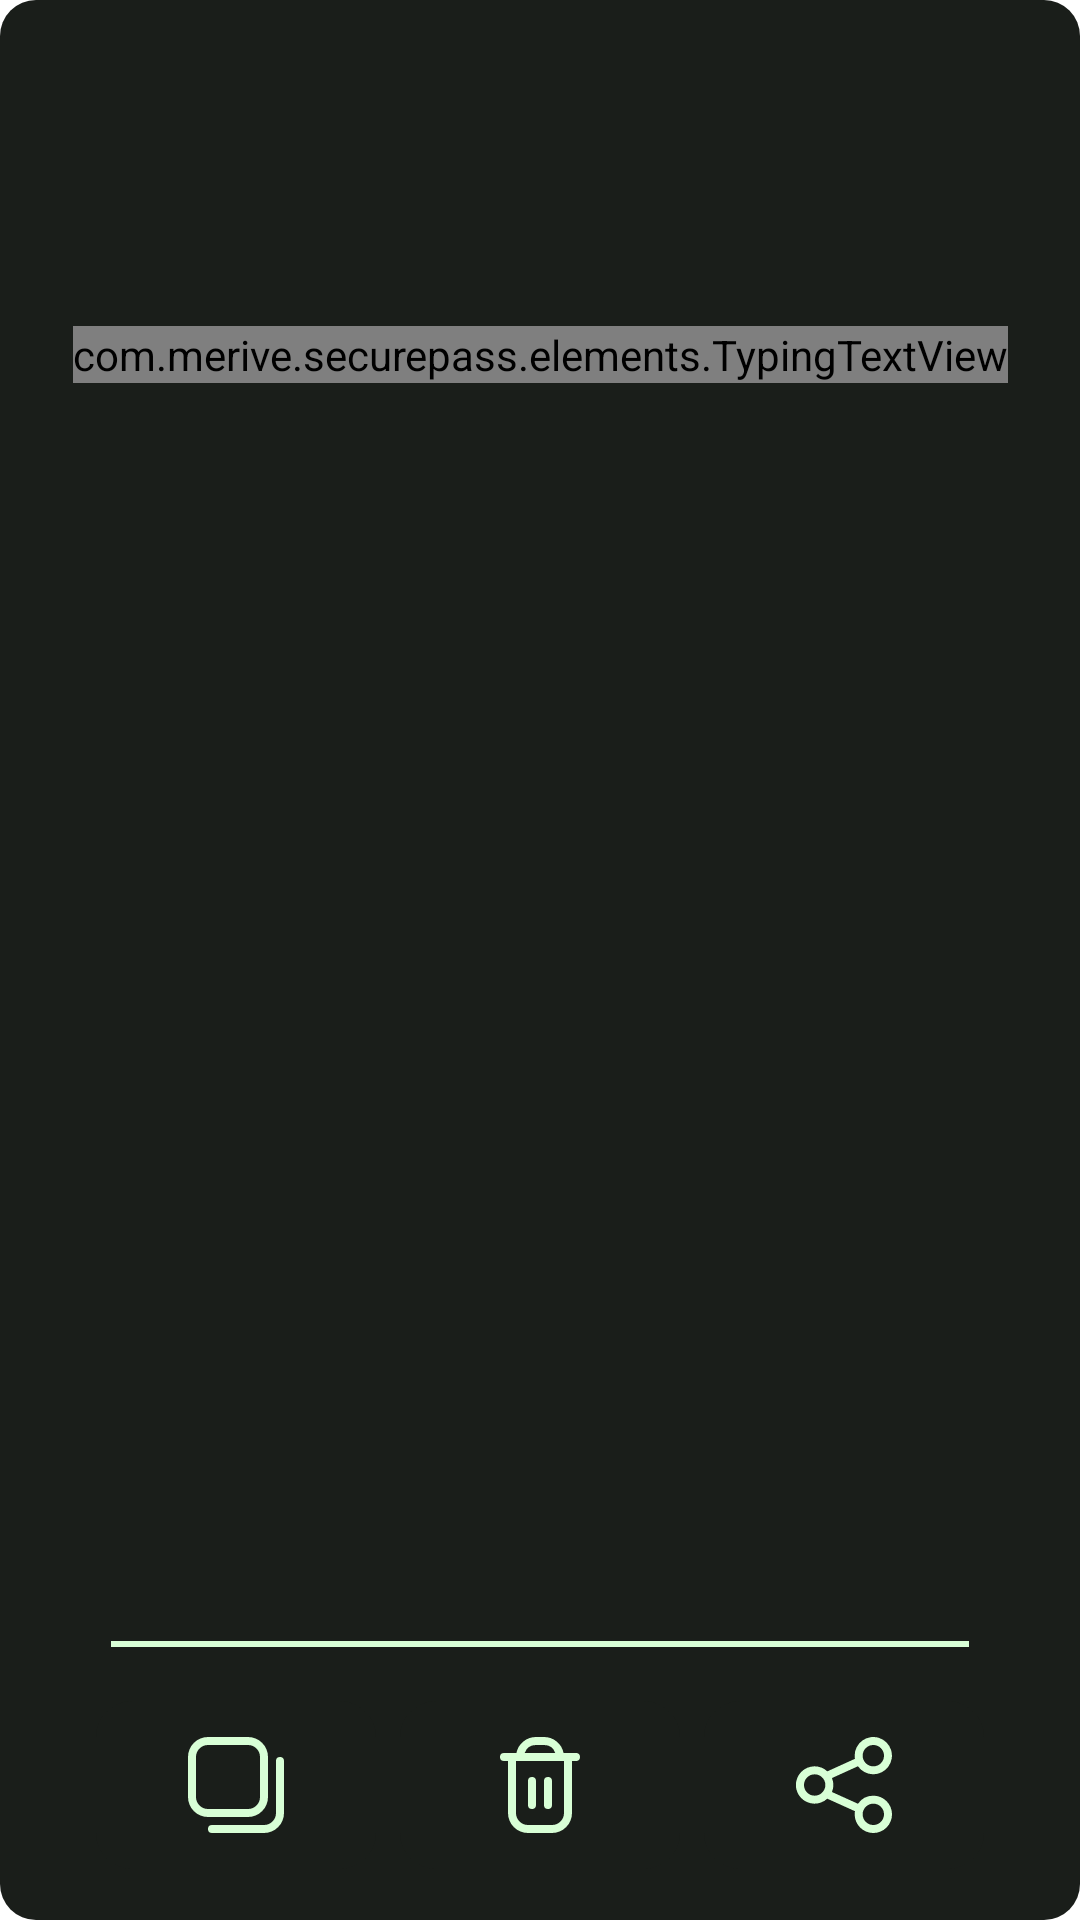

Named icons in this screenshot (1080x1920) and their centers, [x,y]:
delete: [540,1785]
share: [844,1785]
